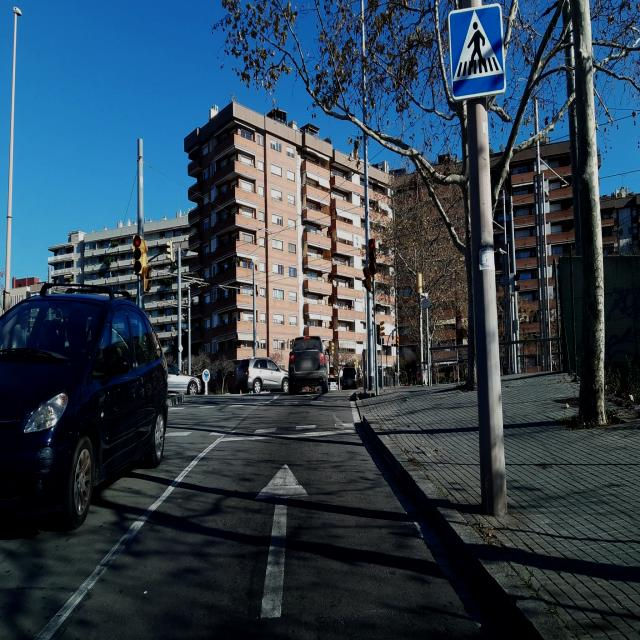car: (0, 284, 169, 532), (288, 336, 330, 395), (236, 357, 288, 394), (166, 362, 202, 398), (339, 364, 358, 390)
